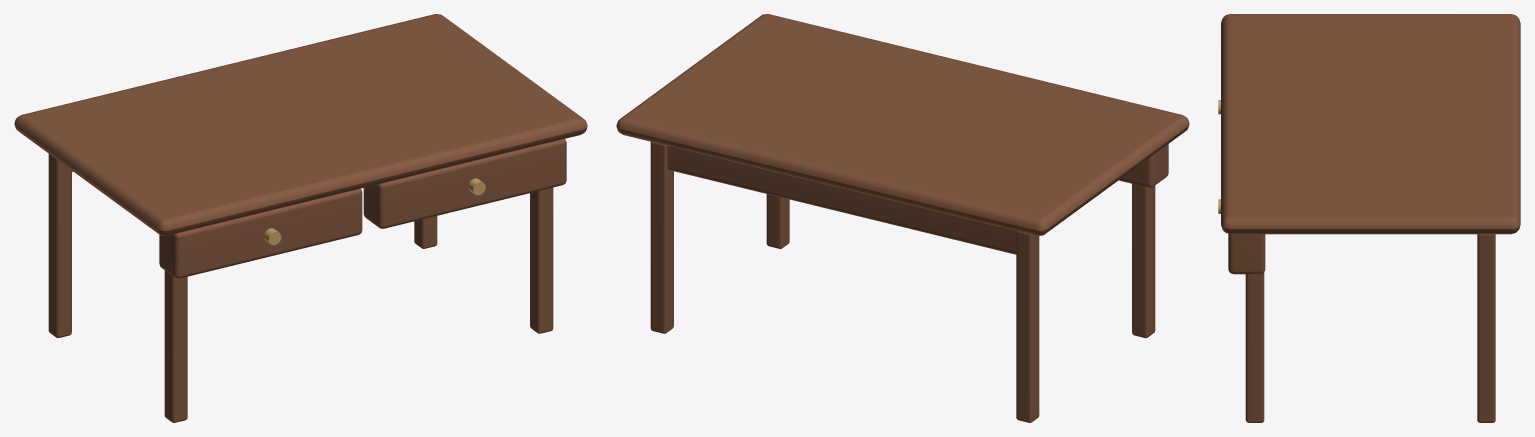
File: classic-desk.glb
3 views of the same model, side by side, from view 1: azimuth 30°, elevation 25°; view 2: azimuth 150°, elevation 25°; view 3: azimuth 270°, elevation 25° (orthographic).
Parts seen in each view (by area): view 1: Top.002; view 2: Top.002; view 3: Top.002.
Part boxes in pixels (x1,y1,x2,y2): Top.002: [14, 14, 587, 422]; Top.002: [616, 14, 1189, 422]; Top.002: [1218, 14, 1520, 422].
Size of the model in its own units: 2.4 by 1.15 by 1.46.
